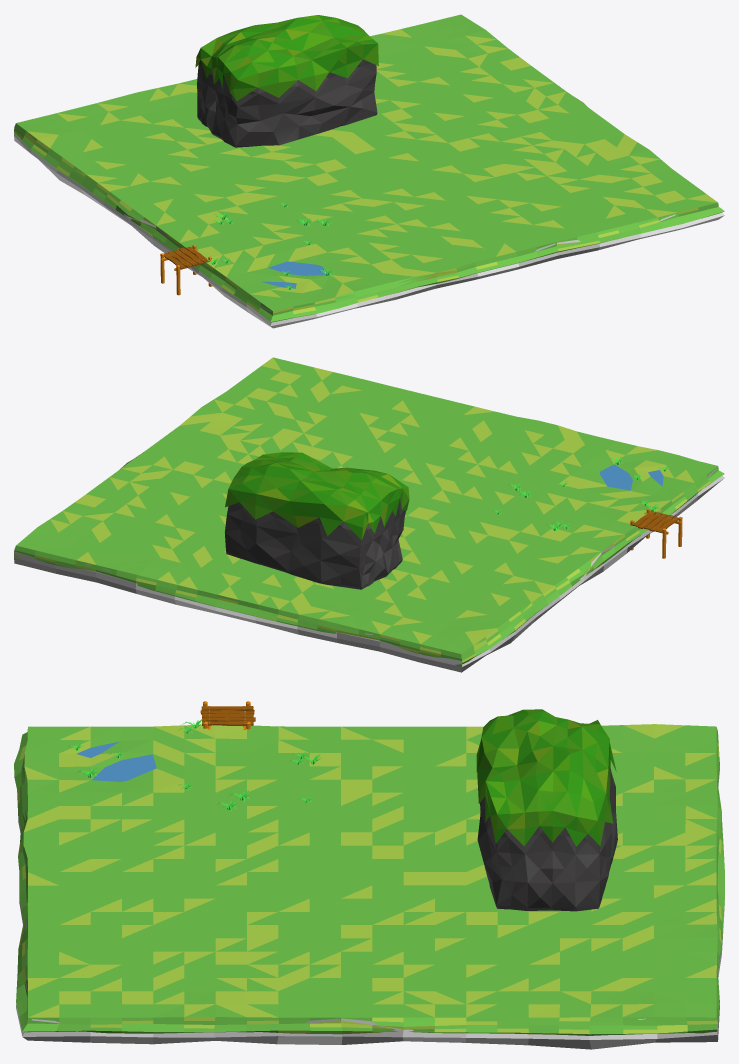
Rendered from Dirt.glb.
The picture shows the model from 3 angles, top to bottom: view 1: azimuth 30°, elevation 25°; view 2: azimuth 150°, elevation 25°; view 3: azimuth 270°, elevation 25°; orthographic projection. The views are drawn at different scales.
Visible parts, largest first — view 1: BeginnerIsland.002, RIff.001, RIff, BeginnerIsland.001, Floor; view 2: BeginnerIsland.002, RIff.001, RIff, BeginnerIsland.001, Floor; view 3: BeginnerIsland.002, RIff.001, RIff, BeginnerIsland.001, Floor.
Boxes of the visible parts, <box> form: BeginnerIsland.002: <box>14,14,724,322</box>; RIff.001: <box>195,15,378,101</box>; RIff: <box>197,59,377,147</box>; BeginnerIsland.001: <box>14,133,724,328</box>; Floor: <box>164,246,209,269</box>; BeginnerIsland.002: <box>14,357,724,666</box>; RIff.001: <box>225,452,409,540</box>; RIff: <box>224,498,405,589</box>; BeginnerIsland.001: <box>14,464,724,672</box>; Floor: <box>632,510,678,532</box>; BeginnerIsland.002: <box>14,724,724,1035</box>; RIff.001: <box>476,709,616,846</box>; RIff: <box>477,768,617,911</box>; BeginnerIsland.001: <box>16,741,724,1049</box>; Floor: <box>200,706,255,725</box>.
Bounding box in the file's own units: 47.34 × 10.76 × 44.99.
Materials: 6 (2 with a texture image).
